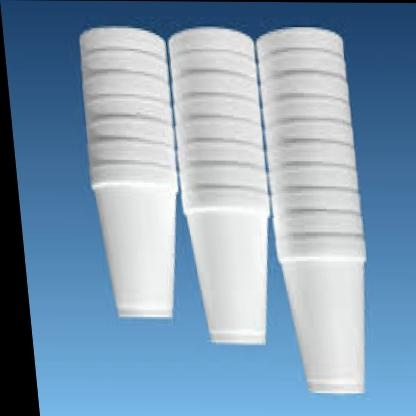trash: (81, 27, 365, 393), (258, 27, 365, 392), (169, 27, 268, 343), (80, 27, 177, 317)
